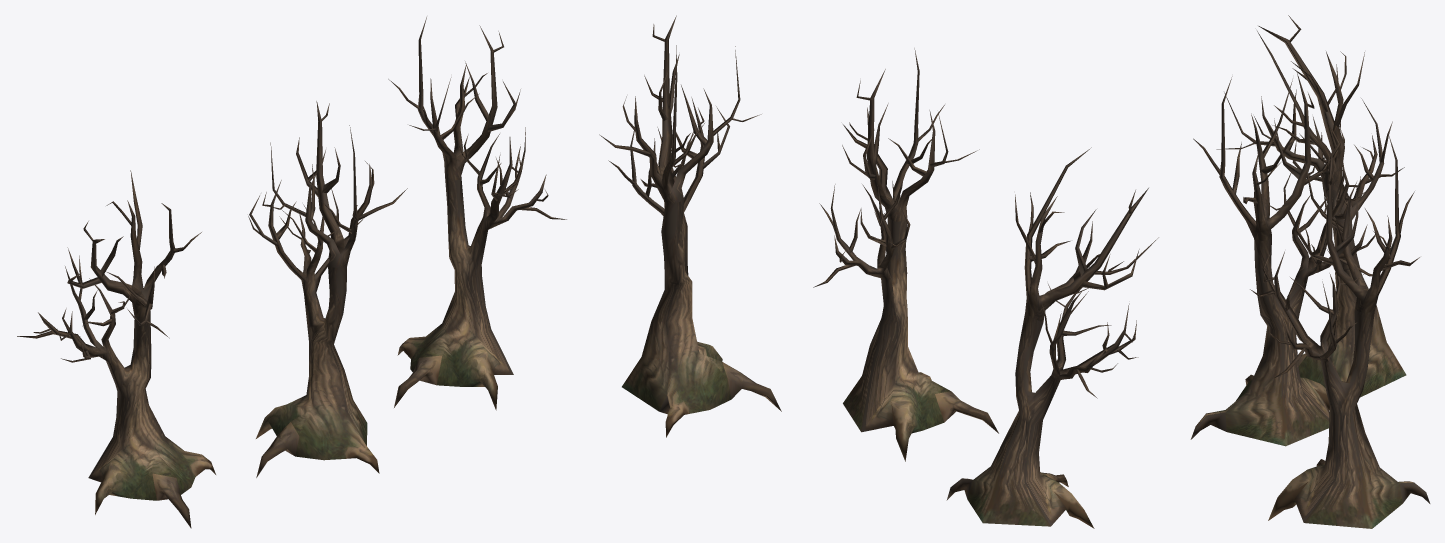
Rendered from plants_tall_tree_trunks212.fbx.
3 views of the same model, side by side, from view 1: azimuth 30°, elevation 25°; view 2: azimuth 150°, elevation 25°; view 3: azimuth 270°, elevation 25° (orthographic). The views are drawn at different scales.
Visible parts, largest first — view 1: Material_#238683193/fancy_tree; view 2: Material_#238683193/fancy_tree; view 3: Material_#238683193/fancy_tree.
Part boxes in pixels (bbox=[...]): Material_#238683193/fancy_tree: bbox=[17, 17, 566, 528]; Material_#238683193/fancy_tree: bbox=[599, 15, 1158, 528]; Material_#238683193/fancy_tree: bbox=[1190, 15, 1430, 528].
Bounding box in the file's own units: 13.96 × 10.69 × 5.53.
